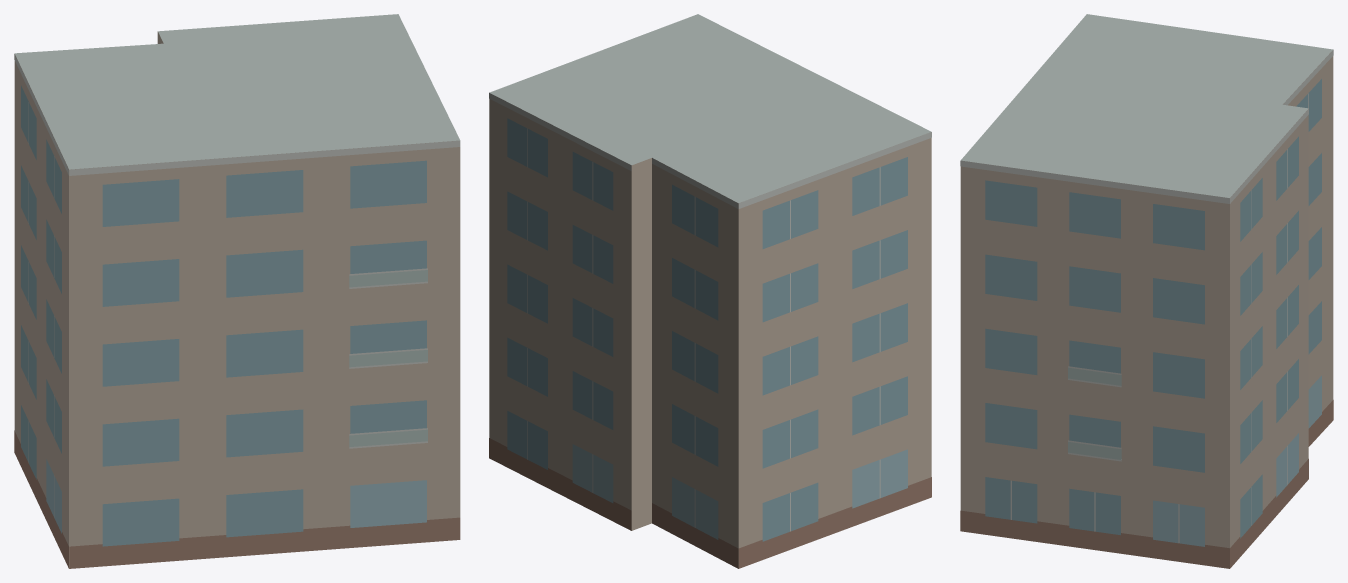
File: survey-upis-32886791.glb
3 renders of one model, left to right at view 1: azimuth 30°, elevation 25°; view 2: azimuth 150°, elevation 25°; view 3: azimuth 270°, elevation 25°, orthographic. The views are drawn at different scales.
Parts seen in each view (by area): view 1: survey-upis-32886791.tmp; view 2: survey-upis-32886791.tmp; view 3: survey-upis-32886791.tmp.
Part boxes in pixels (x1,y1,x2,y2): survey-upis-32886791.tmp: [14, 14, 460, 568]; survey-upis-32886791.tmp: [489, 14, 931, 568]; survey-upis-32886791.tmp: [960, 14, 1333, 568].
Bounding box in the file's own units: 16.09 × 15.1 × 13.78.
